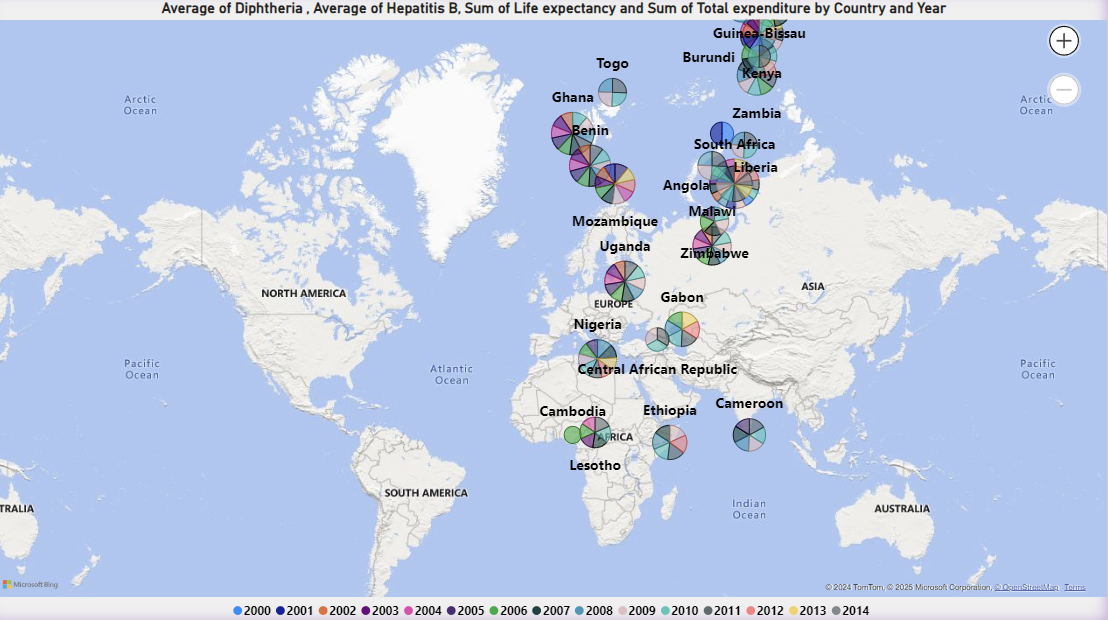

What the dashboard file says about the page in this screenshot:
{"tool":"powerbi","page":{"name":"Page 4","canvas":[1280,720],"ordinal":3},"visuals":[{"type":"map","fields":{"Category":["Life Expectancy Data_report.Country"],"Y":["Avg(Life Expectancy Data_report.Diphtheria )"],"X":["Avg(Life Expectancy Data_report.Hepatitis B)"],"Size":["Sum(Life Expectancy Data_report.Life expectancy )"],"Series":["Life Expectancy Data_report.Year"]},"box":[0,0,1280.3,720.2],"z":0}]}

Visuals, with their boxes in screenshot pixels (x1, y1, x2, y2), scaled from the page's 1280x720 canvas onto the 1108x620 screenshot:
map - Life Expectancy Data_report.Country x Avg(Life Expectancy Data_report.Diphtheria ): 0, 0, 1107, 619
